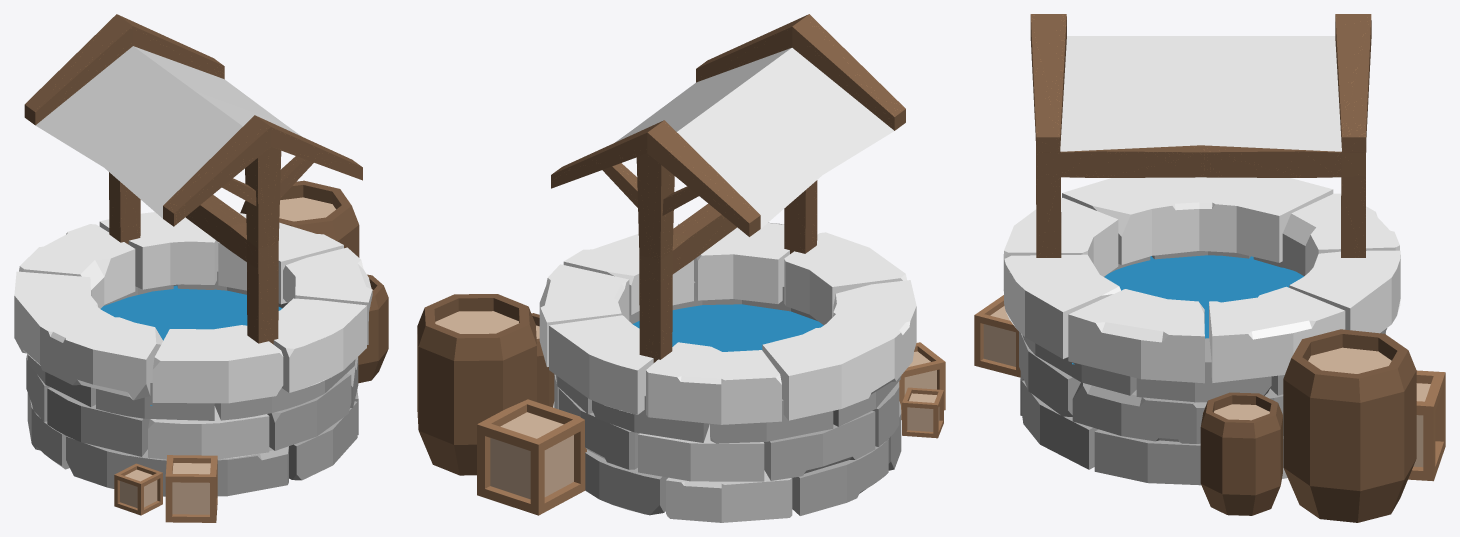
Rendered from well.glb.
The picture shows the model from 3 angles, left to right: view 1: azimuth 30°, elevation 25°; view 2: azimuth 150°, elevation 25°; view 3: azimuth 270°, elevation 25°; orthographic projection. The views are drawn at different scales.
Visible parts, largest first — view 1: Well; view 2: Well; view 3: Well.
Boxes of the visible parts, <box> form: Well: <box>14,14,388,522</box>; Well: <box>417,14,945,522</box>; Well: <box>974,14,1445,522</box>.
Size of the model in its own units: 4.4 by 3.96 by 4.28.
2 materials, 1 textured.
